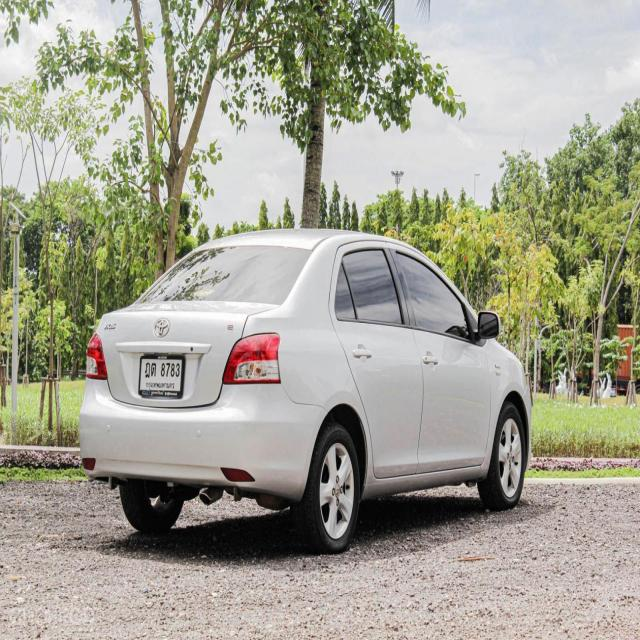license_plate: (138, 352, 186, 399)
